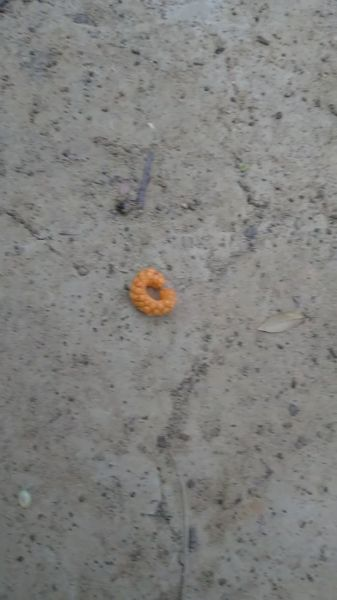eggs: (128, 258, 177, 319)
